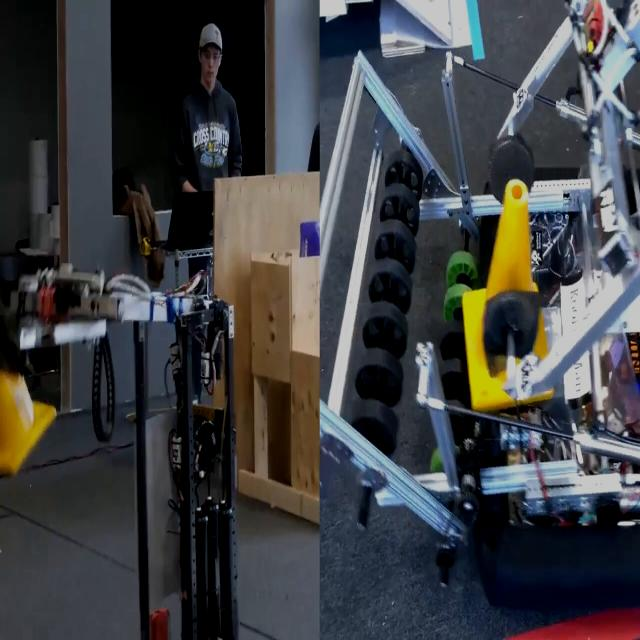frc_cone: (463, 175, 560, 411), (0, 322, 61, 486)
frc_cube: (296, 216, 324, 268)
